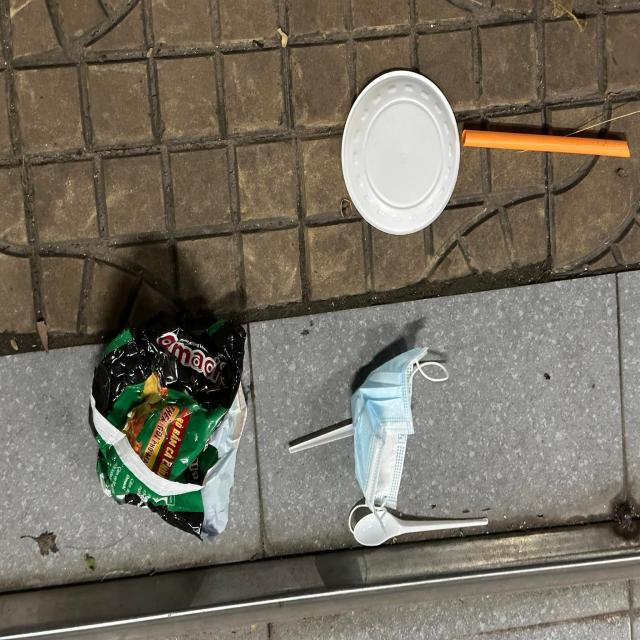drinking straw: (462, 129, 630, 158)
mask: (350, 346, 449, 511)
plastic holder: (340, 70, 460, 235)
plastic utensil: (353, 512, 488, 546), (288, 422, 355, 454)
snack package: (89, 321, 248, 543)
